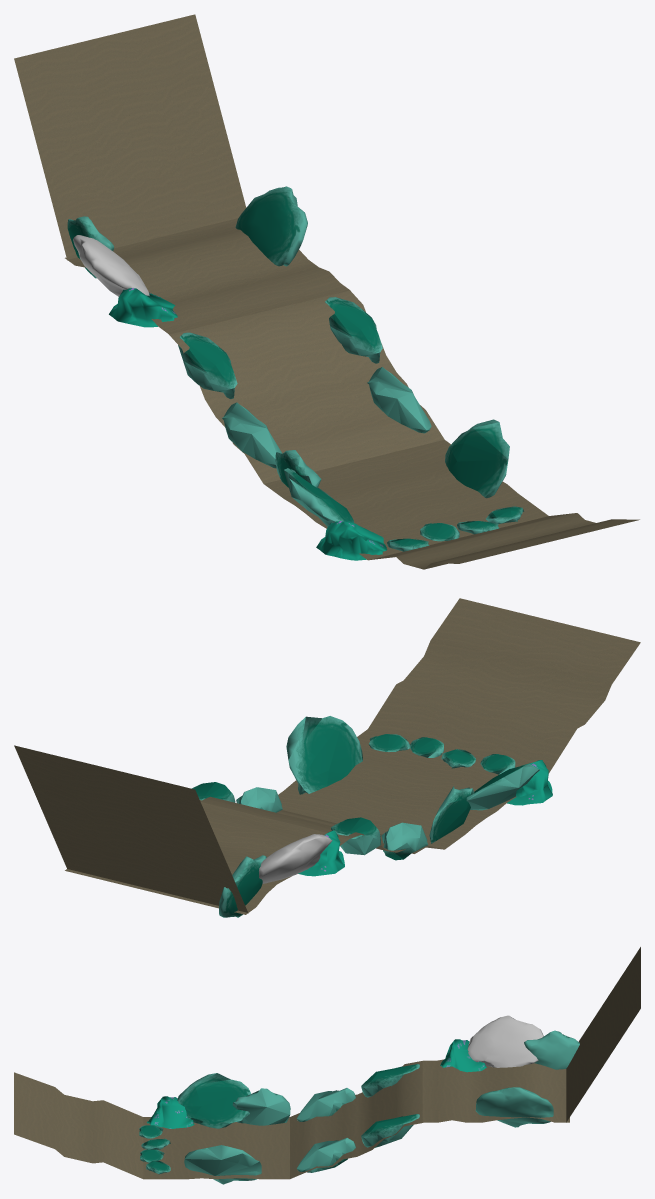
Rendered from level.fbx.
The picture shows the model from 3 angles, top to bottom: view 1: azimuth 30°, elevation 25°; view 2: azimuth 150°, elevation 25°; view 3: azimuth 270°, elevation 25°; orthographic projection. The views are drawn at different scales.
Visible parts, largest first — view 1: pPlane6, Aset_nature__M_wdkibav_00_LOD5_6, Aset_nature__M_wdkibav_00_LOD5_1, Aset_nature__M_wdkibav_00_LOD5_9, Aset_nature__M_wdkibav_00_LOD5_2, Aset_nature__M_wdkibav_00_LOD5_10, Aset_nature__M_wdkibav_00_LOD5_7, Aset_nature__M_wdkibav_00_LOD5_11, Aset_nature_rock_M_wepodfl_00_LOD3_1, Aset_nature_rock_M_wepodfl_00_LOD3_2, Aset_nature__M_wdkibav_00_LOD5_5, Aset_nature__M_wdkibav_00_LOD5_4 (+1 smaller); view 2: pPlane6, Aset_nature__M_wdkibav_00_LOD5_1, Aset_nature__M_wdkibav_00_LOD5_7, Aset_nature__M_wdkibav_00_LOD5_5, Aset_nature__M_wdkibav_00_LOD5_8, Aset_nature__M_wdkibav_00_LOD5_4, Aset_nature__M_wdkibav_00_LOD5_11, Aset_nature__M_wdkibav_00_LOD5_9, Aset_nature_rock_M_wepodfl_00_LOD3_1, Aset_nature_rock_M_wepodfl_00_LOD3_2, Aset_nature__M_wdkibav_00_LOD5_10, Aset_nature__M_wdkibav_00_LOD5_3 (+4 smaller); view 3: pPlane6, Aset_nature__M_wdkibav_00_LOD5_7, Aset_nature__M_wdkibav_00_LOD5_5, Aset_nature__M_wdkibav_00_LOD5_6, Aset_nature__M_wdkibav_00_LOD5_1, Aset_nature__M_wdkibav_00_LOD5_4, Aset_nature__M_wdkibav_00_LOD5_8, Aset_nature__M_wdkibav_00_LOD5_10, Aset_nature__M_wdkibav_00_LOD5_11, Aset_nature__M_wdkibav_00_LOD5_2, Aset_nature_rock_M_wepodfl_00_LOD3_1, Aset_nature_rock_M_wepodfl_00_LOD3_2 (+1 smaller).
Boxes of the visible parts, x1,y1,x2,y2 form: pPlane6: (14, 14, 639, 569); Aset_nature__M_wdkibav_00_LOD5_6: (235, 186, 307, 266); Aset_nature__M_wdkibav_00_LOD5_1: (445, 419, 509, 498); Aset_nature__M_wdkibav_00_LOD5_9: (178, 332, 237, 398); Aset_nature__M_wdkibav_00_LOD5_2: (325, 297, 382, 363); Aset_nature__M_wdkibav_00_LOD5_10: (367, 367, 431, 433); Aset_nature__M_wdkibav_00_LOD5_7: (73, 235, 149, 296); Aset_nature__M_wdkibav_00_LOD5_11: (222, 402, 282, 468); Aset_nature_rock_M_wepodfl_00_LOD3_1: (316, 519, 387, 560); Aset_nature_rock_M_wepodfl_00_LOD3_2: (109, 288, 177, 327); Aset_nature__M_wdkibav_00_LOD5_5: (284, 468, 354, 526); Aset_nature__M_wdkibav_00_LOD5_4: (275, 450, 321, 487); pPlane6: (14, 598, 640, 914); Aset_nature__M_wdkibav_00_LOD5_1: (286, 716, 362, 794); Aset_nature__M_wdkibav_00_LOD5_7: (259, 834, 332, 883); Aset_nature__M_wdkibav_00_LOD5_5: (466, 764, 539, 810); Aset_nature__M_wdkibav_00_LOD5_8: (219, 855, 266, 917); Aset_nature__M_wdkibav_00_LOD5_4: (429, 786, 474, 843); Aset_nature__M_wdkibav_00_LOD5_11: (381, 822, 427, 860); Aset_nature__M_wdkibav_00_LOD5_9: (331, 817, 380, 855); Aset_nature_rock_M_wepodfl_00_LOD3_1: (507, 760, 552, 805); Aset_nature_rock_M_wepodfl_00_LOD3_2: (298, 830, 344, 876); Aset_nature__M_wdkibav_00_LOD5_10: (236, 787, 282, 812); Aset_nature__M_wdkibav_00_LOD5_3: (369, 734, 410, 751); pPlane6: (14, 947, 640, 1179); Aset_nature__M_wdkibav_00_LOD5_7: (467, 1015, 543, 1067); Aset_nature__M_wdkibav_00_LOD5_5: (177, 1073, 250, 1128); Aset_nature__M_wdkibav_00_LOD5_6: (475, 1087, 553, 1127); Aset_nature__M_wdkibav_00_LOD5_1: (184, 1145, 261, 1184); Aset_nature__M_wdkibav_00_LOD5_4: (232, 1088, 290, 1125); Aset_nature__M_wdkibav_00_LOD5_8: (524, 1030, 579, 1069); Aset_nature__M_wdkibav_00_LOD5_10: (297, 1137, 355, 1172); Aset_nature__M_wdkibav_00_LOD5_11: (297, 1088, 355, 1121); Aset_nature__M_wdkibav_00_LOD5_2: (361, 1114, 419, 1147); Aset_nature_rock_M_wepodfl_00_LOD3_1: (147, 1096, 194, 1128); Aset_nature_rock_M_wepodfl_00_LOD3_2: (440, 1039, 486, 1072).
Size of what is drawn, in the model's own units: 118 by 136 by 412.
Materials: 4 (3 with a texture image).
